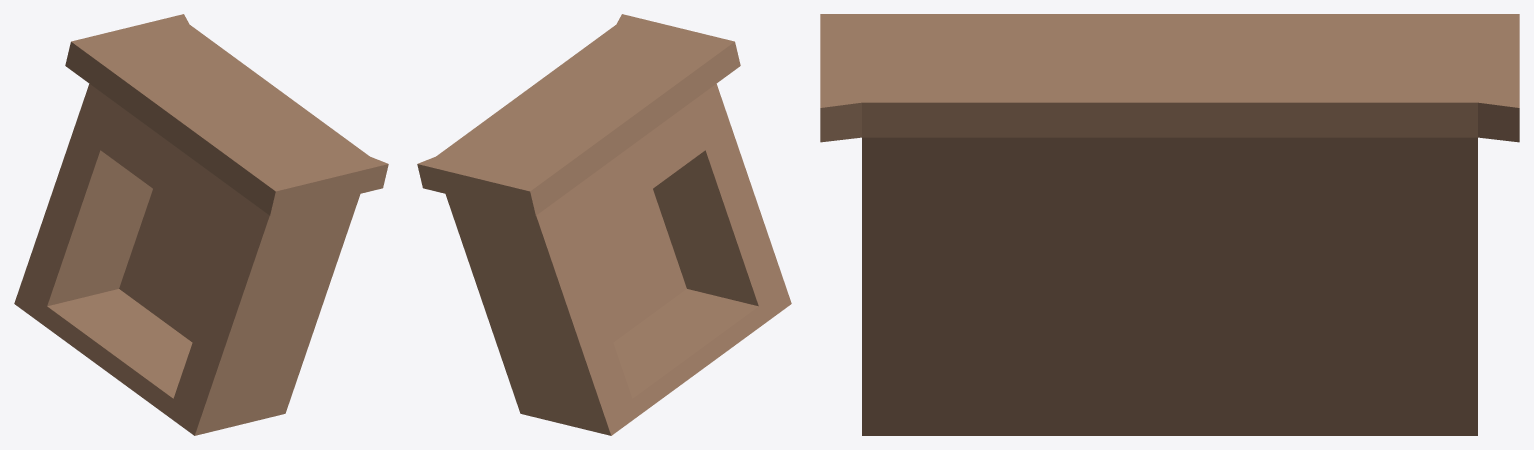
File: SM_FirePlace_001.fbx
3 views of the same model, side by side, from view 1: azimuth 30°, elevation 25°; view 2: azimuth 150°, elevation 25°; view 3: azimuth 270°, elevation 25° (orthographic). The views are drawn at different scales.
Visible parts, largest first — view 1: pCube1; view 2: pCube1; view 3: pCube1.
Part boxes in pixels (x1,y1,x2,y2): pCube1: (14,14,388,435); pCube1: (417,14,791,435); pCube1: (820,14,1519,435).
Size of the model in its own units: 54.98 by 68.3 by 107.
